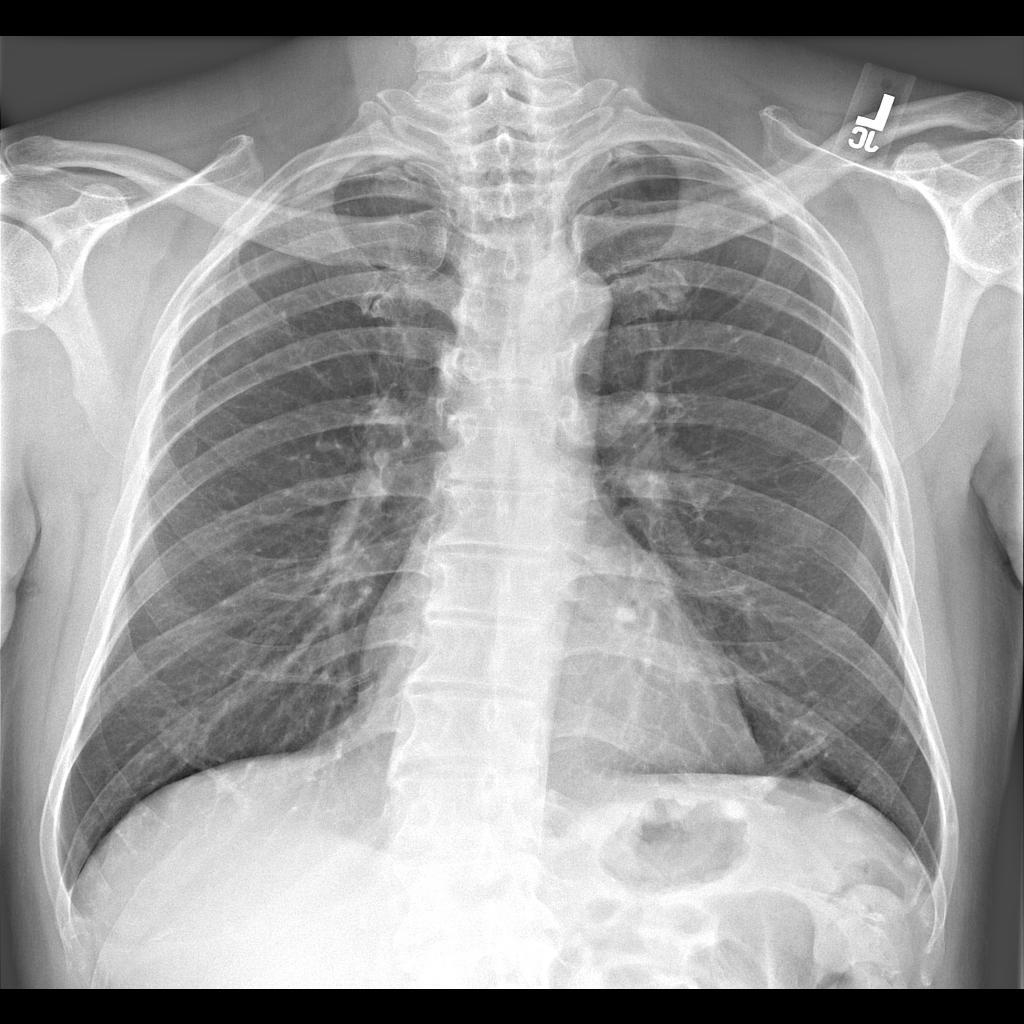Nodule: (605, 592, 653, 638)
